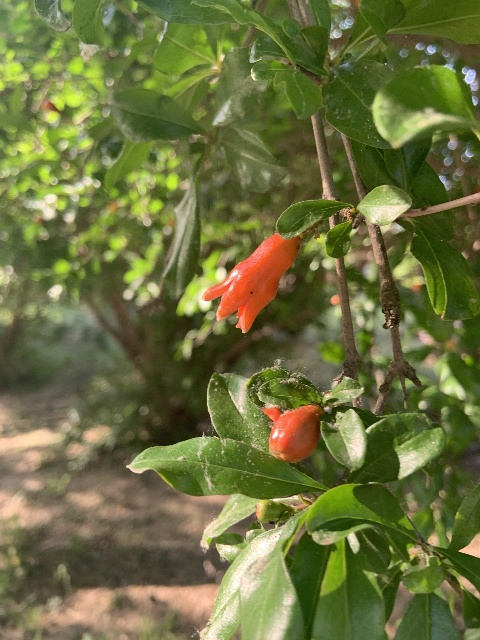bud: (266, 404, 322, 463), (255, 499, 284, 523)
flower: (203, 231, 298, 332)
